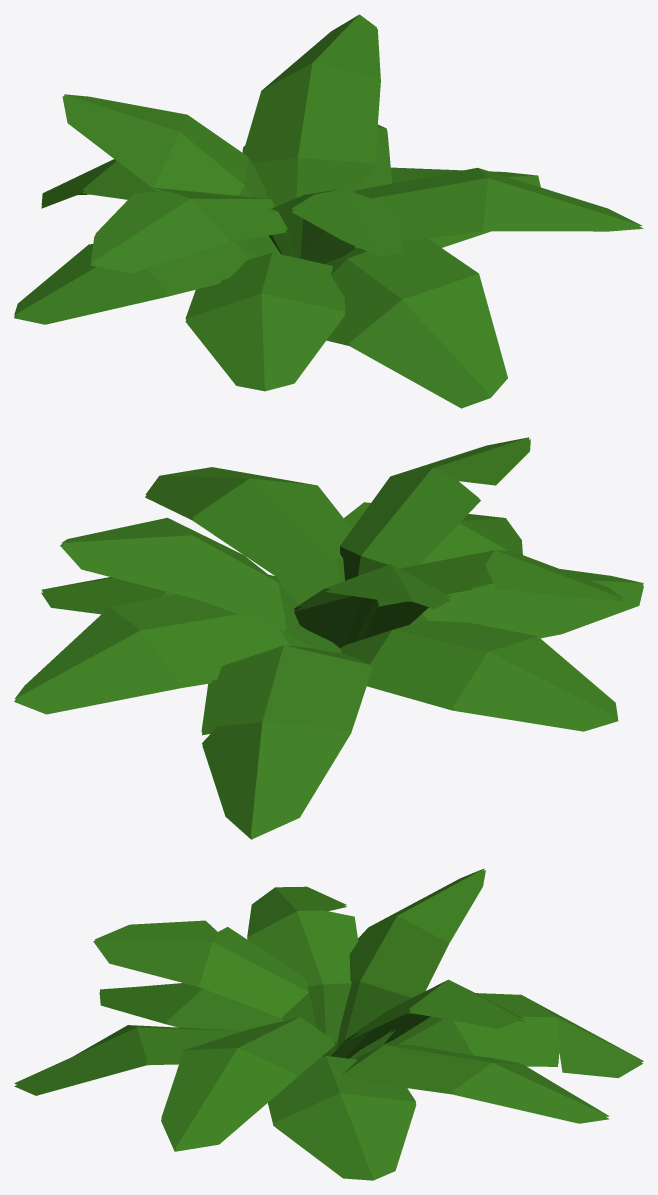
The model's file is Plant4_tex.fbx.
3 renders of one model, top to bottom at view 1: azimuth 30°, elevation 25°; view 2: azimuth 150°, elevation 25°; view 3: azimuth 270°, elevation 25°, orthographic. The views are drawn at different scales.
Parts seen in each view (by area): view 1: Plant4_tex; view 2: Plant4_tex; view 3: Plant4_tex.
Boxes of the visible parts, bbox=[...] form: Plant4_tex: bbox=[14, 14, 643, 408]; Plant4_tex: bbox=[14, 437, 643, 839]; Plant4_tex: bbox=[14, 868, 643, 1180].
Bounding box in the file's own units: 1.45 × 0.4681 × 1.61.
